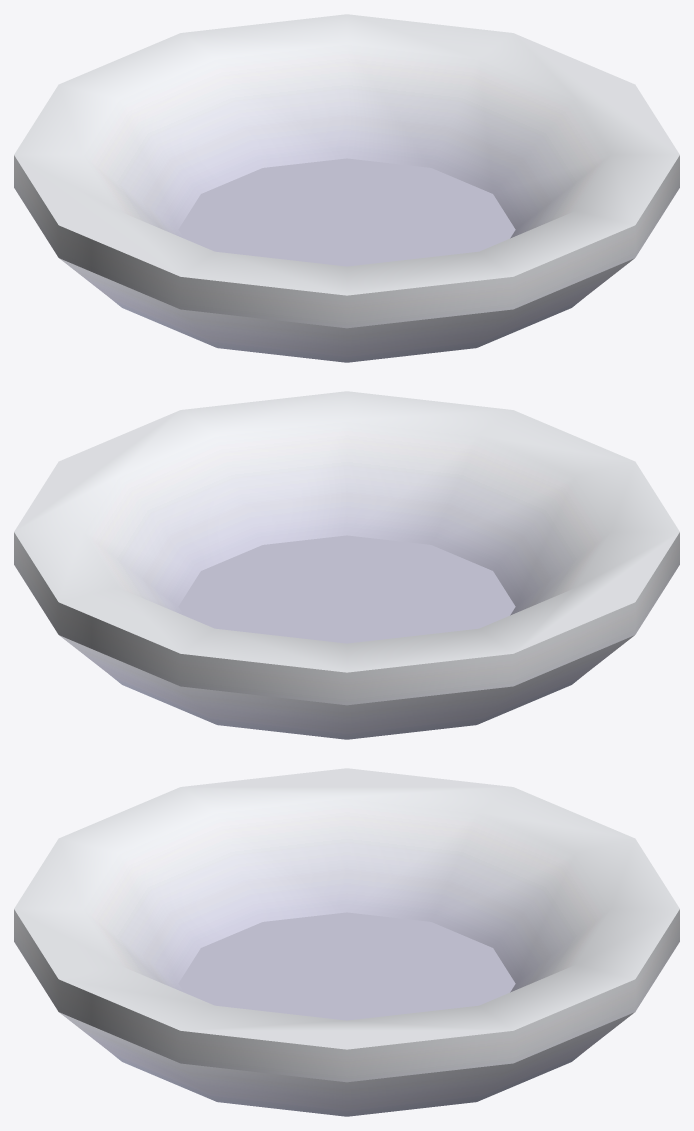
File: plate-deep.glb
3 views of the same model, one above another, from view 1: azimuth 30°, elevation 25°; view 2: azimuth 150°, elevation 25°; view 3: azimuth 270°, elevation 25° (orthographic).
Visible parts, largest first — view 1: plate-deep; view 2: plate-deep; view 3: plate-deep.
Part boxes in pixels (left/top/right/bottom): plate-deep: left=14, top=14, right=679, bottom=362; plate-deep: left=14, top=391, right=679, bottom=739; plate-deep: left=14, top=768, right=679, bottom=1116.
Bounding box in the file's own units: 0.8918 × 0.1449 × 0.8918.
1 material, 1 textured.
